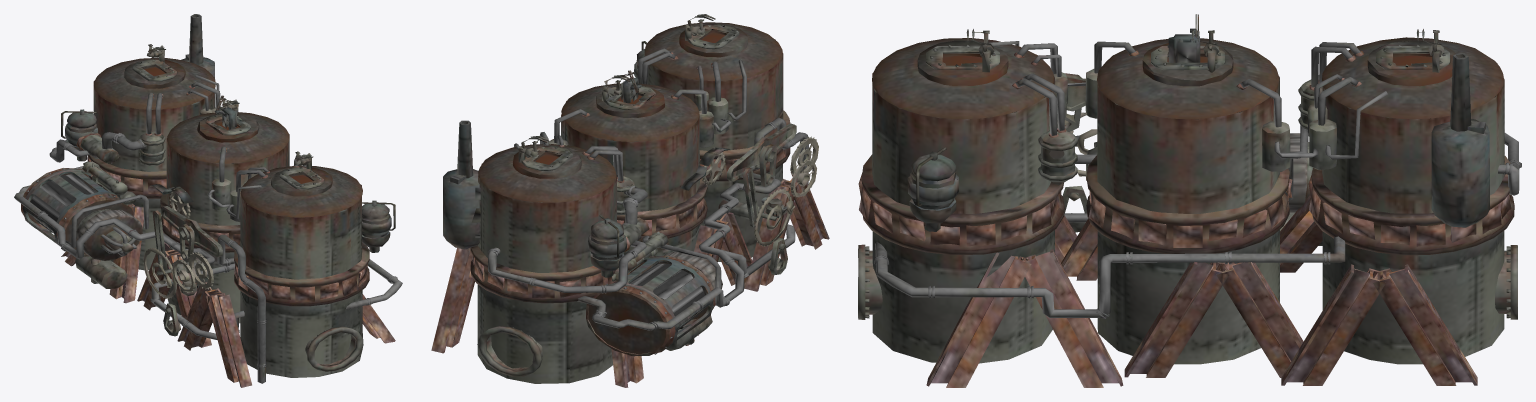
File: steam-engine.glb
The picture shows the model from 3 angles, left to right: view 1: azimuth 30°, elevation 25°; view 2: azimuth 150°, elevation 25°; view 3: azimuth 270°, elevation 25°; orthographic projection. The views are drawn at different scales.
Parts seen in each view (by area): view 1: body, anim_spin_flywheel.001, anim_spin_flywheel.003, anim_spin_flywheel.002, anim_spin_flywheel.004; view 2: body, anim_spin_flywheel.001, anim_spin_flywheel.003, anim_spin_flywheel.002, anim_spin_flywheel.004, anim_spin_flywheel; view 3: body.
Boxes of the visible parts, <box> form: body: <box>14,14,402,387</box>; anim_spin_flywheel.001: <box>143,247,176,298</box>; anim_spin_flywheel.003: <box>188,252,213,289</box>; anim_spin_flywheel.002: <box>172,259,195,292</box>; anim_spin_flywheel.004: <box>163,303,180,336</box>; body: <box>431,14,829,387</box>; anim_spin_flywheel.001: <box>754,188,795,246</box>; anim_spin_flywheel.003: <box>790,136,818,178</box>; anim_spin_flywheel.002: <box>790,160,816,197</box>; anim_spin_flywheel.004: <box>768,237,787,274</box>; anim_spin_flywheel: <box>702,152,725,185</box>; body: <box>858,14,1521,387</box>.
Bounding box in the file's own units: 3.29 × 3.02 × 5.83.
1 material, 1 textured.
